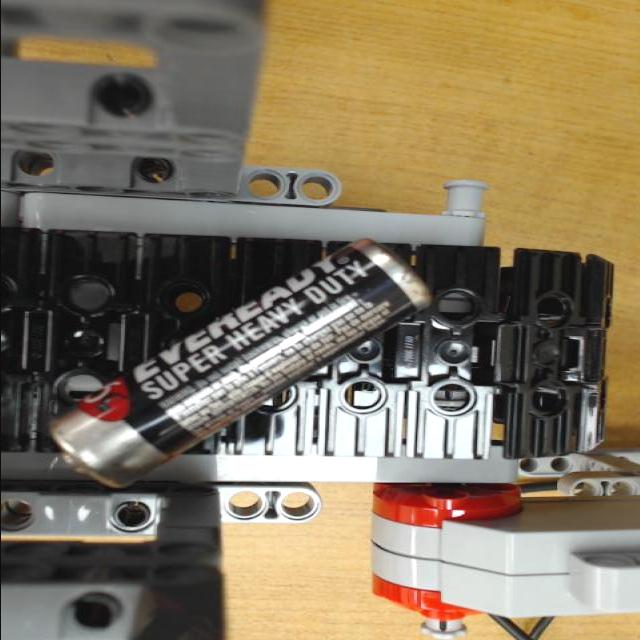AA: (48, 245, 424, 490)
